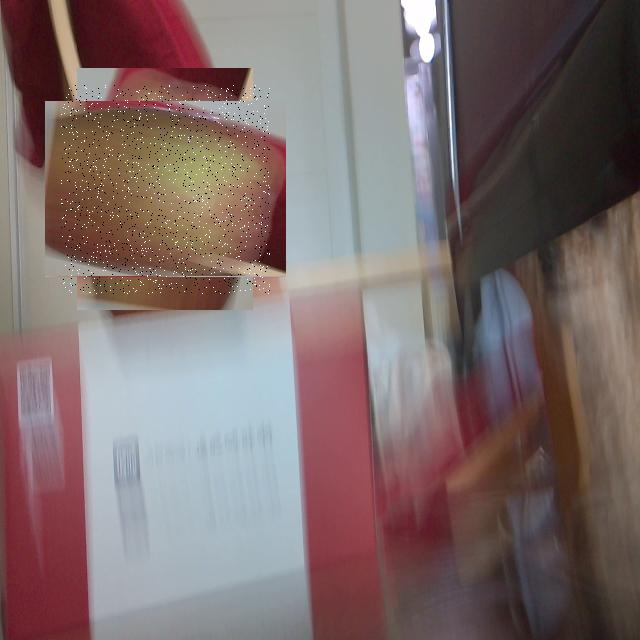apple: (61, 85, 270, 294)
